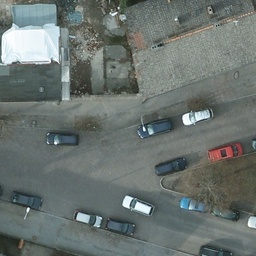car: (122, 190, 157, 216), (106, 214, 135, 239), (138, 118, 172, 139), (181, 106, 214, 127), (155, 156, 185, 179), (11, 190, 42, 211), (207, 144, 241, 163), (71, 210, 103, 228), (46, 131, 78, 148), (177, 196, 207, 211), (212, 205, 239, 219), (0, 180, 3, 196)
